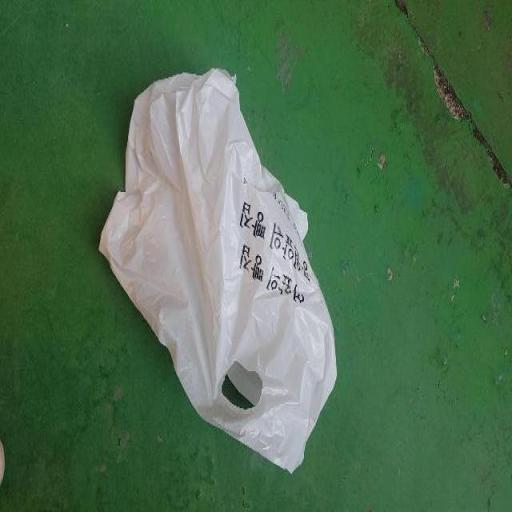plastic-bag: (94, 64, 338, 480)
